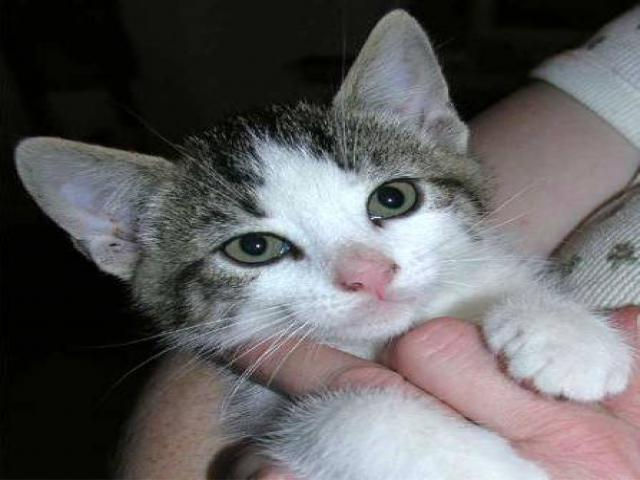cat: (26, 14, 639, 468)
